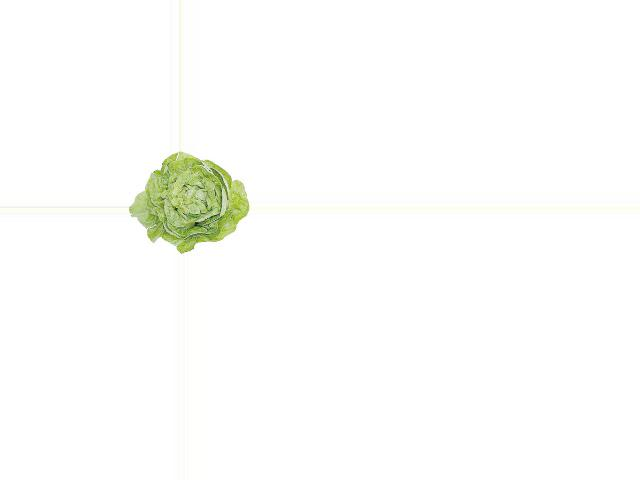lettuce: (132, 152, 250, 253)
